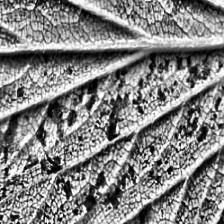Angular Leafspot: (0, 30, 224, 224)
